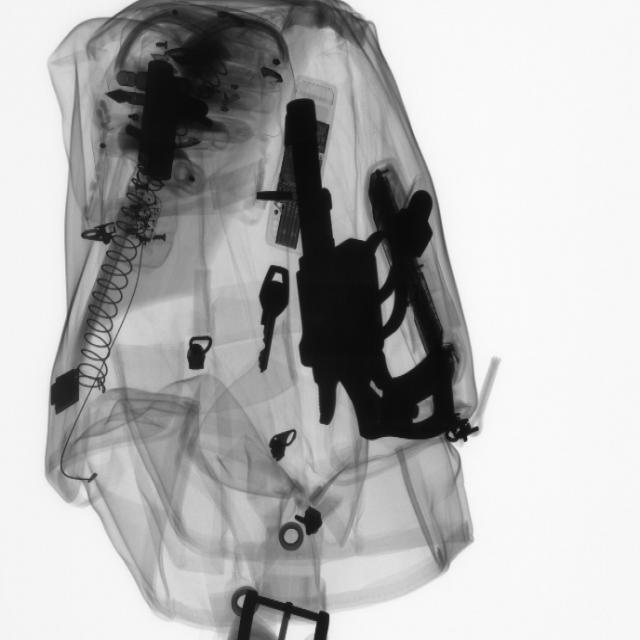GUN: (293, 101, 445, 444)
